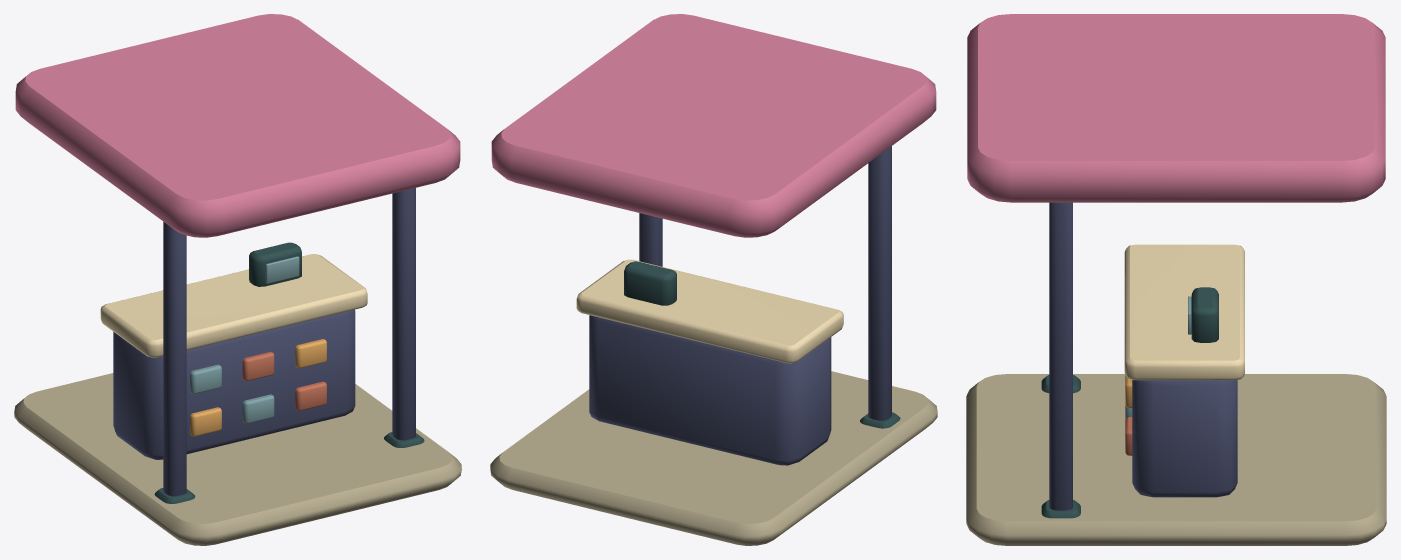
The model's file is japan_restaurant_2.glb.
3 views of the same model, side by side, from view 1: azimuth 30°, elevation 25°; view 2: azimuth 150°, elevation 25°; view 3: azimuth 270°, elevation 25° (orthographic). The views are drawn at different scales.
Visible parts, largest first — view 1: JapanRestaurant2; view 2: JapanRestaurant2; view 3: JapanRestaurant2.
Boxes of the visible parts, <box> form: JapanRestaurant2: <box>14,14,461,545</box>; JapanRestaurant2: <box>490,14,937,545</box>; JapanRestaurant2: <box>966,14,1386,545</box>.
Size of the model in its own units: 2.18 by 2.51 by 2.48.
